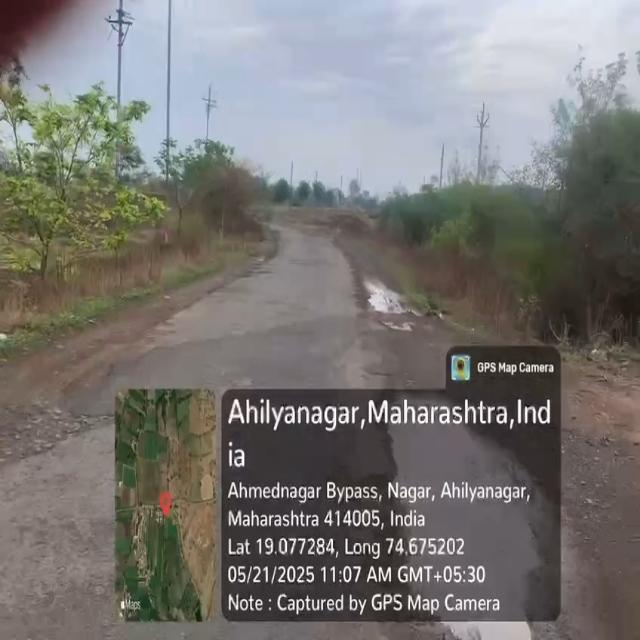pothole: (363, 275, 429, 337)
